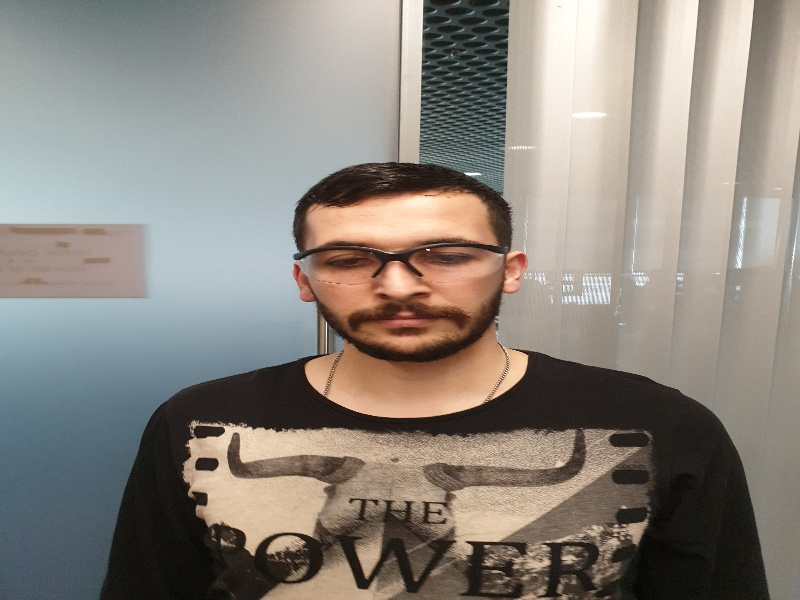Gozluk: (291, 242, 514, 284)
